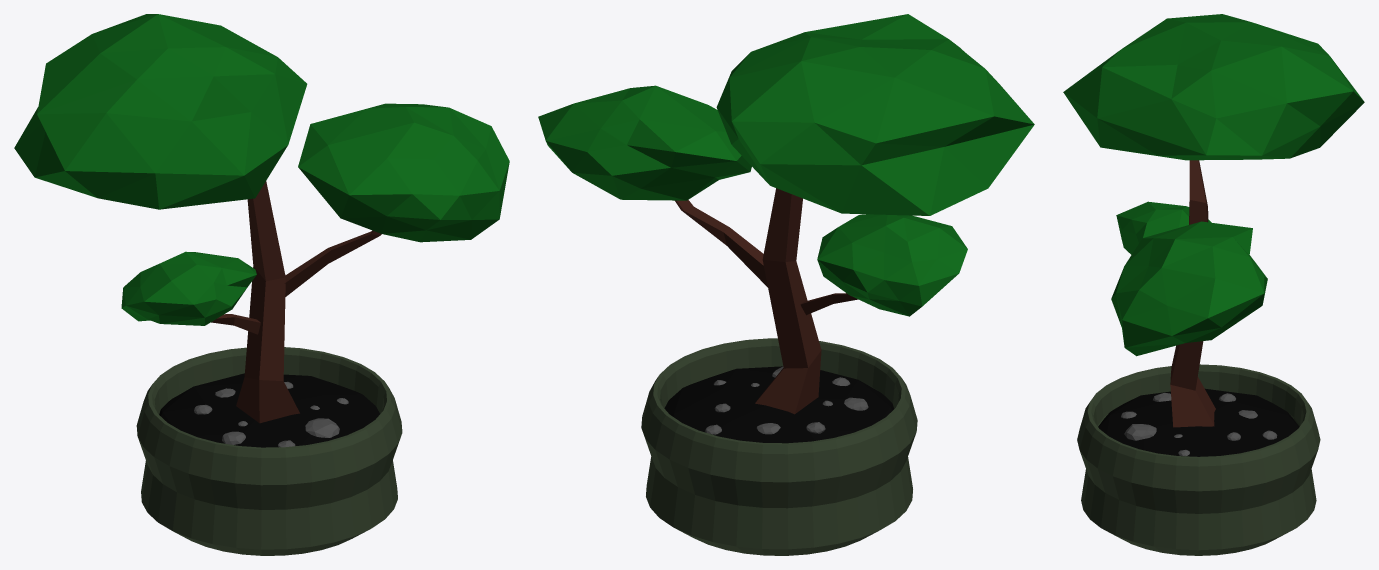
Rendered from Bonsai 1.fbx.
The picture shows the model from 3 angles, left to right: view 1: azimuth 30°, elevation 25°; view 2: azimuth 150°, elevation 25°; view 3: azimuth 270°, elevation 25°; orthographic projection. The views are drawn at different scales.
Parts seen in each view (by area): view 1: Icosphere, Circle, Icosphere.001, Icosphere.002, Cube, Icosphere.003, Plane; view 2: Icosphere, Circle, Icosphere.001, Icosphere.003, Icosphere.002, Cube, Plane; view 3: Icosphere, Circle, Icosphere.001, Icosphere.002, Cube, Icosphere.003, Icosphere.004.
Part boxes in pixels (x1=…): Icosphere: x1=14, y1=14, x2=307, y2=209; Circle: x1=136, y1=347, x2=402, y2=555; Icosphere.001: x1=298, y1=103, x2=509, y2=242; Icosphere.002: x1=159, y1=373, x2=379, y2=447; Cube: x1=236, y1=181, x2=299, y2=423; Icosphere.003: x1=121, y1=251, x2=256, y2=325; Plane: x1=284, y1=230, x2=381, y2=296; Icosphere: x1=716, y1=14, x2=1034, y2=215; Circle: x1=641, y1=338, x2=917, y2=555; Icosphere.001: x1=538, y1=85, x2=751, y2=200; Icosphere.003: x1=817, y1=214, x2=967, y2=316; Icosphere.002: x1=664, y1=366, x2=893, y2=443; Cube: x1=755, y1=188, x2=821, y2=414; Plane: x1=675, y1=200, x2=767, y2=287; Icosphere: x1=1063, y1=14, x2=1364, y2=160; Circle: x1=1077, y1=364, x2=1320, y2=555; Icosphere.001: x1=1111, y1=221, x2=1267, y2=356; Icosphere.002: x1=1098, y1=388, x2=1299, y2=456; Cube: x1=1170, y1=160, x2=1215, y2=427; Icosphere.003: x1=1116, y1=201, x2=1211, y2=254; Icosphere.004: x1=1124, y1=424, x2=1156, y2=440.
Size of the model in its own units: 1944 by 1977 by 1229.
